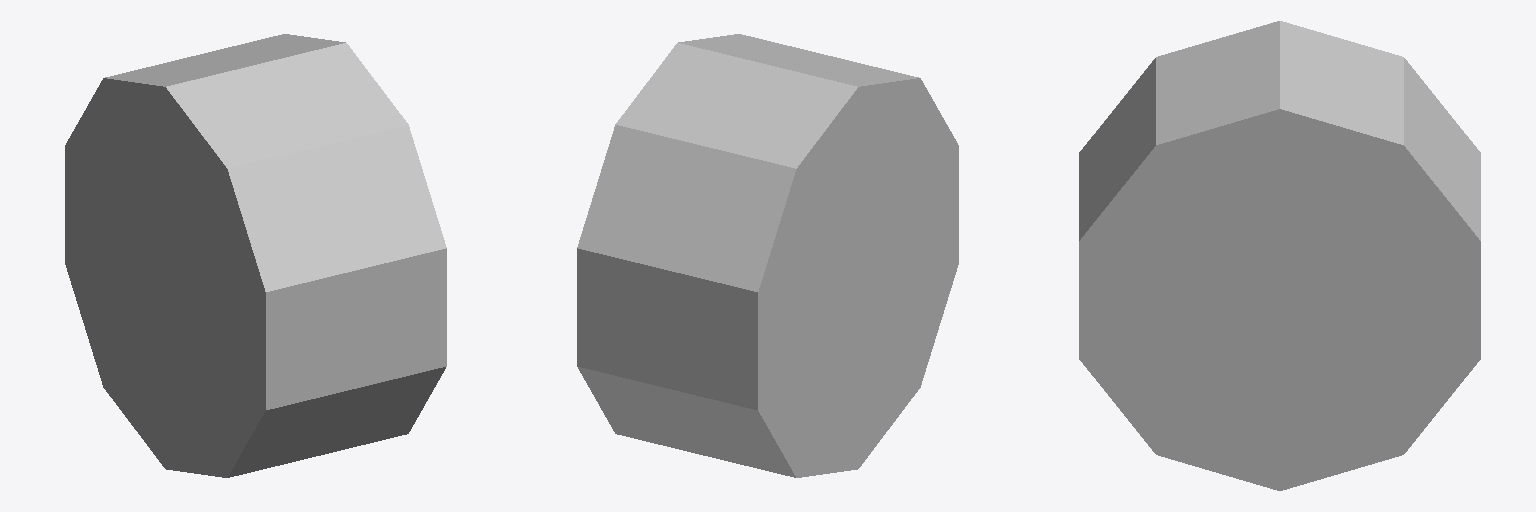
Rendered from gatcha_wheel.obj.
3 renders of one model, left to right at view 1: azimuth 30°, elevation 25°; view 2: azimuth 150°, elevation 25°; view 3: azimuth 270°, elevation 25°, orthographic.
Parts seen in each view (by area): view 1: Cube.008; view 2: Cube.008; view 3: Cube.008.
Part boxes in pixels (x1,y1,x2,y2): Cube.008: (65,34,446,477); Cube.008: (577,34,958,477); Cube.008: (1079,21,1480,490).
Size of the model in its own units: 0.1253 by 0.2527 by 0.2403.